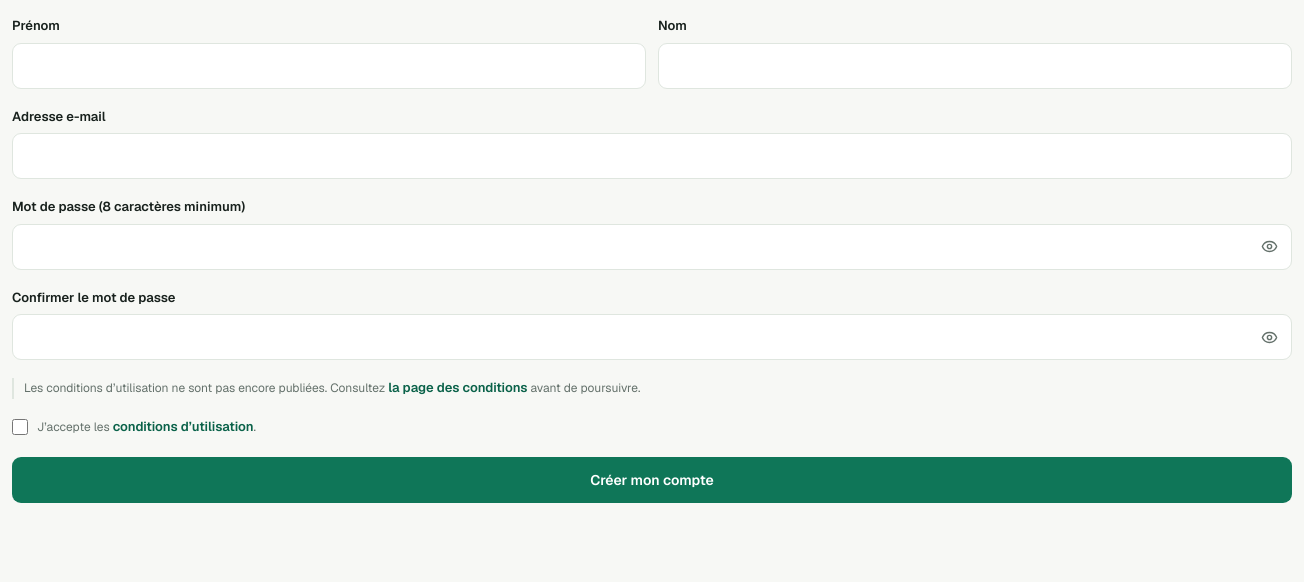
authentication forms › renders all registration fields and completes the email-confirmation state
The width and height of the screenshot is (1304, 582).
Expected: the field labelled "Nom" is shown, [658, 42, 1292, 88]
Expected: the field labelled "Adresse e-mail" is shown, [12, 133, 1292, 179]
Type "Jeanne" into the field labelled "Prénom".
click(329, 66); type("Jeanne")  # box [12, 42, 646, 88]
Type "Martin" into the field labelled "Nom".
click(975, 66); type("Martin")  # box [658, 42, 1292, 88]
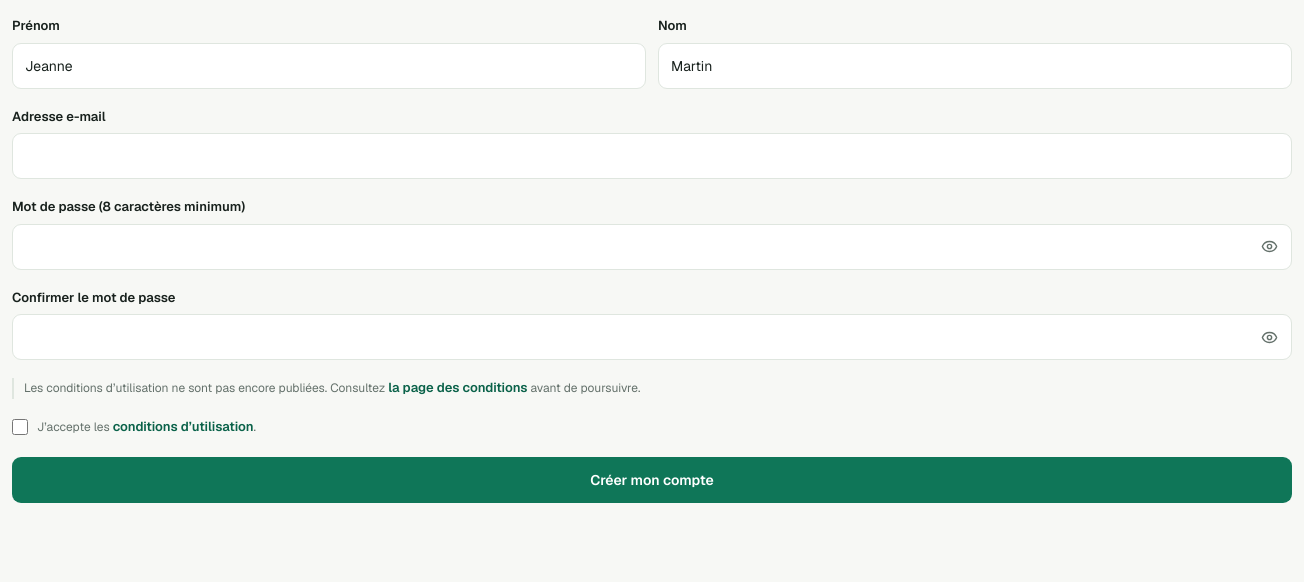
Type "jeanne@example.com" into the field labelled "Adresse e-mail".
click(652, 156); type("jeanne@example.com")  # box [12, 133, 1292, 179]
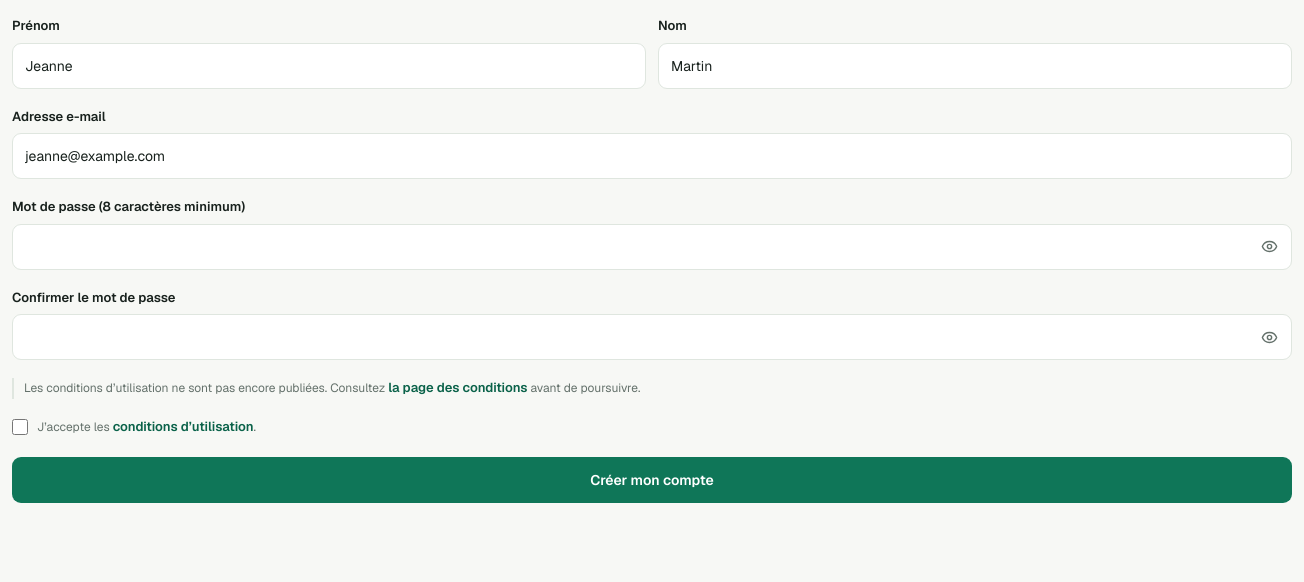
Type "securite123" into the password field labelled "Mot de passe (8 caractères minimum)".
click(652, 246); type("securite123")  # box [12, 224, 1292, 270]
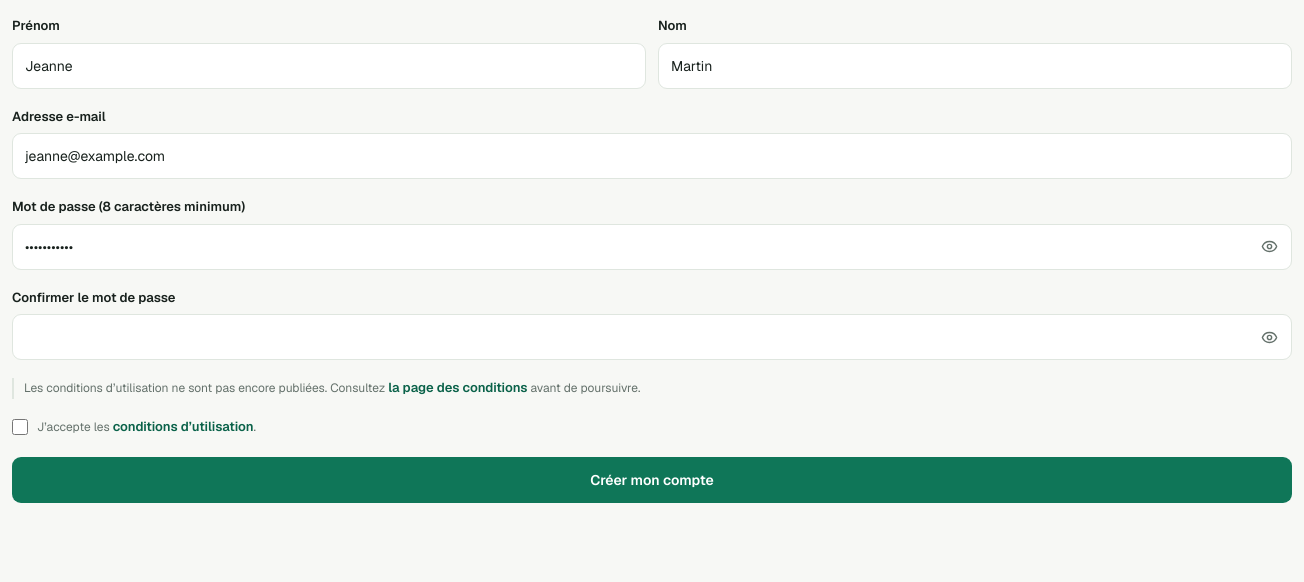
Type "securite123" into the password field labelled "Confirmer le mot de passe".
click(652, 337); type("securite123")  # box [12, 314, 1292, 360]
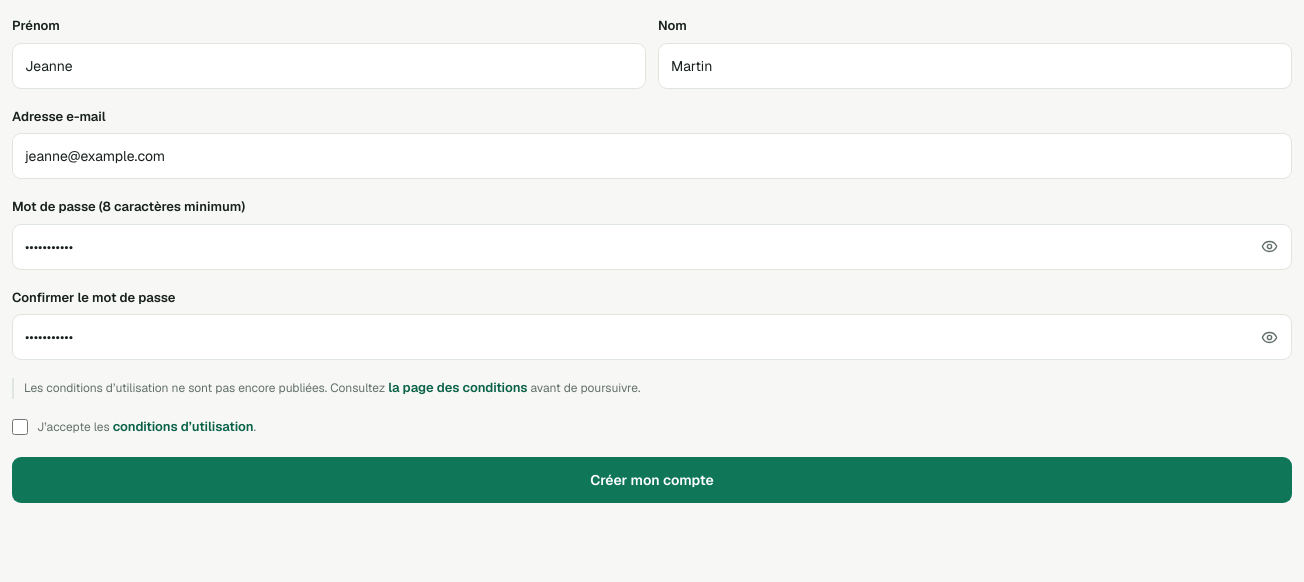
Click the checkbox labelled "J’accepte les conditions d’utilisation .".
click(20, 427)  # box [12, 419, 28, 435]
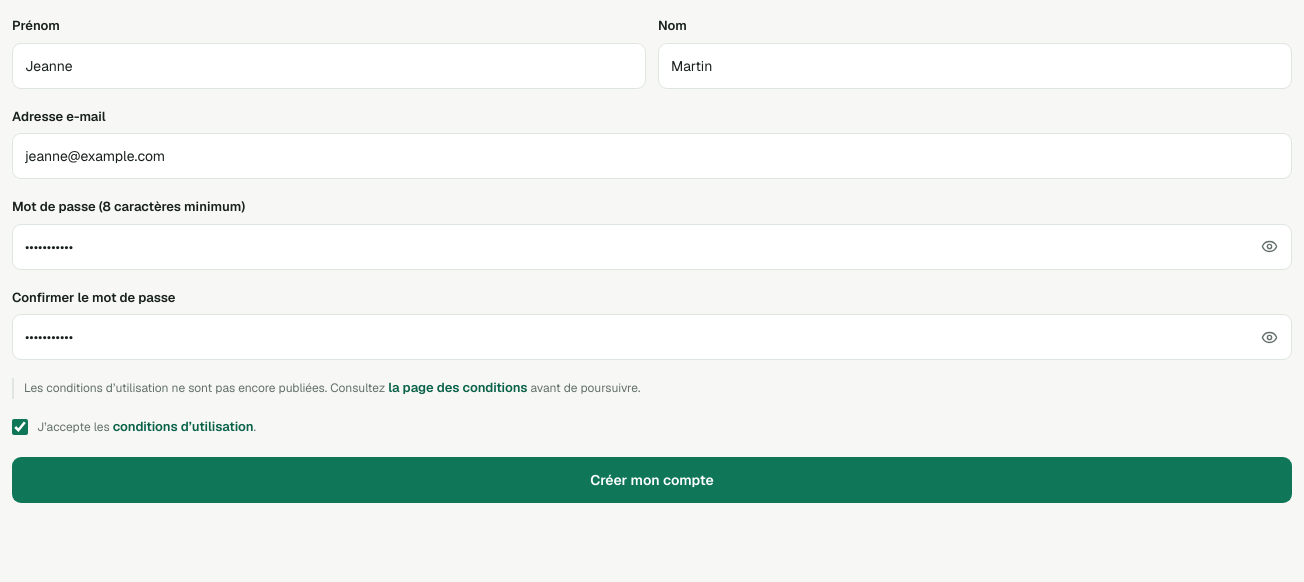
Submit the form named "Créer mon compte"
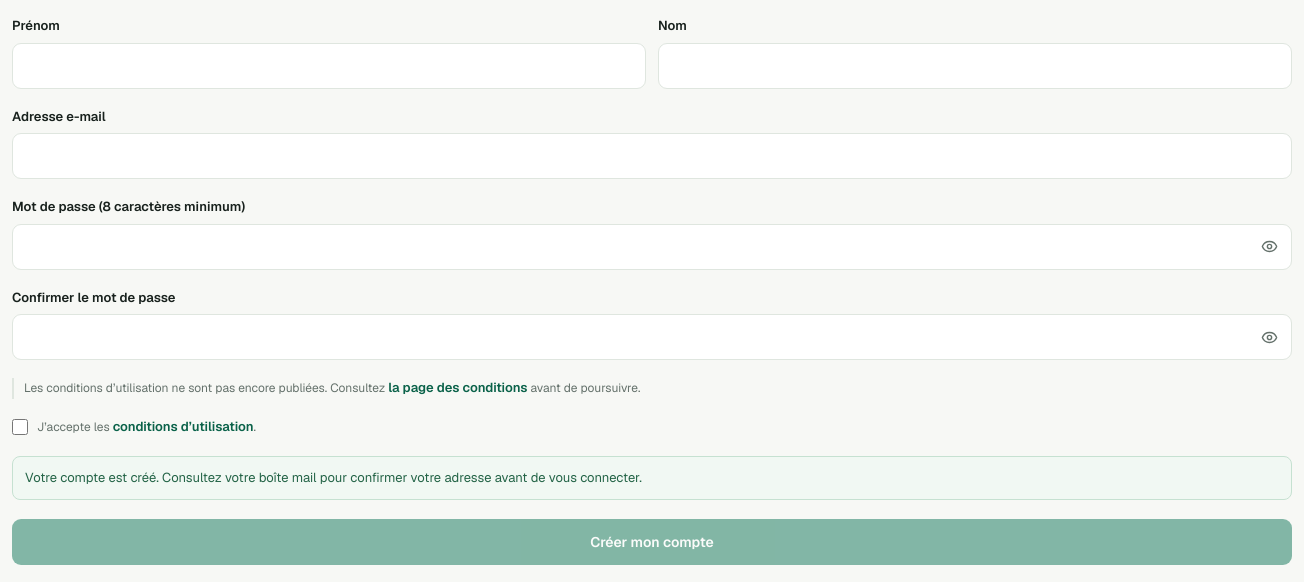
Now the message shows "Consultez votre boîte mail", box [25, 469, 642, 486]
